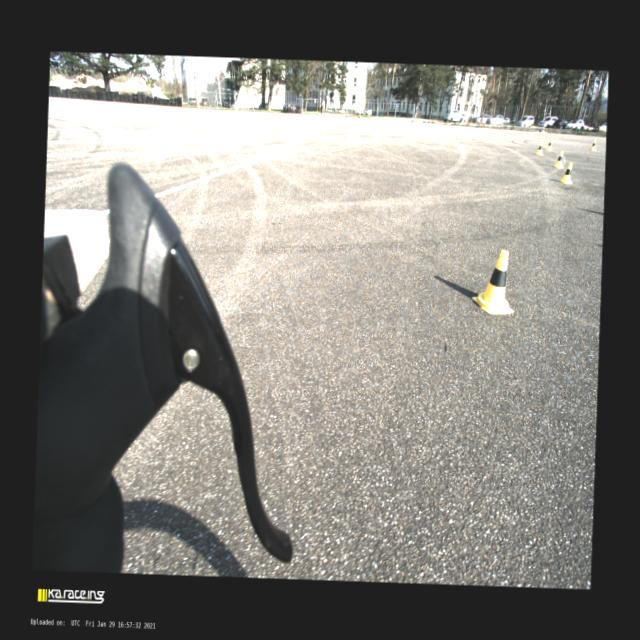yellow_cone: (471, 248, 516, 314), (560, 162, 574, 184), (554, 150, 564, 168), (536, 142, 542, 156), (546, 138, 552, 150), (590, 138, 596, 150)
